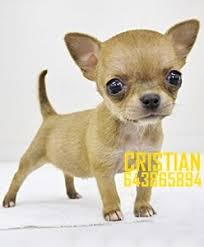chihuahua: (1, 20, 204, 212)
